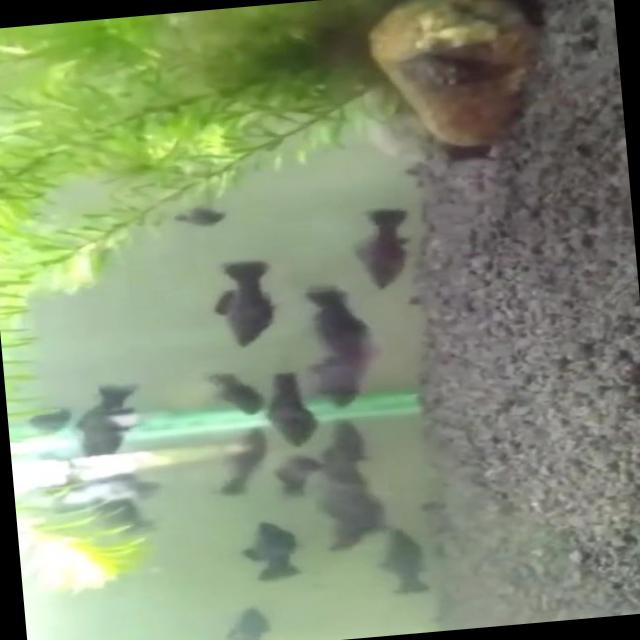PlatyFish: (200, 249, 286, 354), (294, 278, 384, 373), (340, 201, 422, 297)
